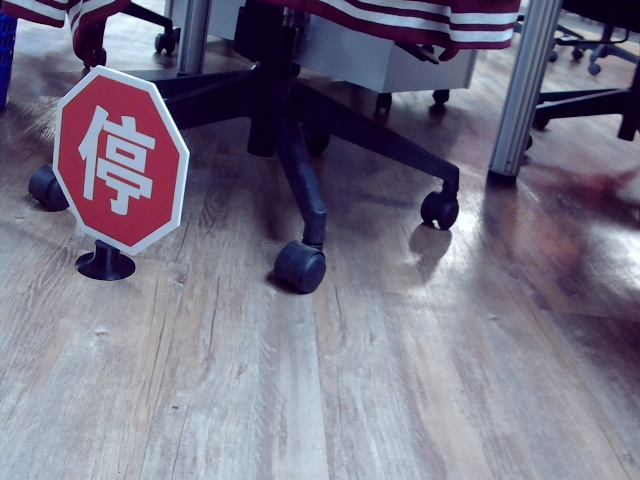stop: (75, 102, 154, 211)
